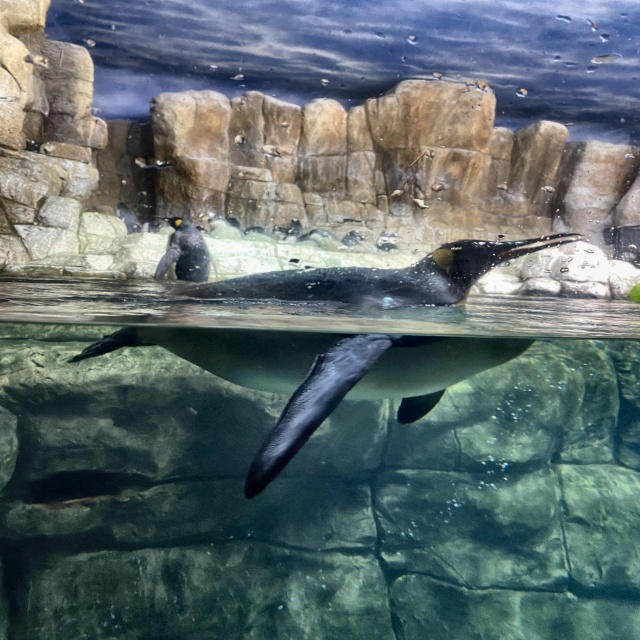penguin: (69, 232, 582, 499), (156, 215, 212, 284), (113, 201, 143, 232), (282, 218, 305, 244)
